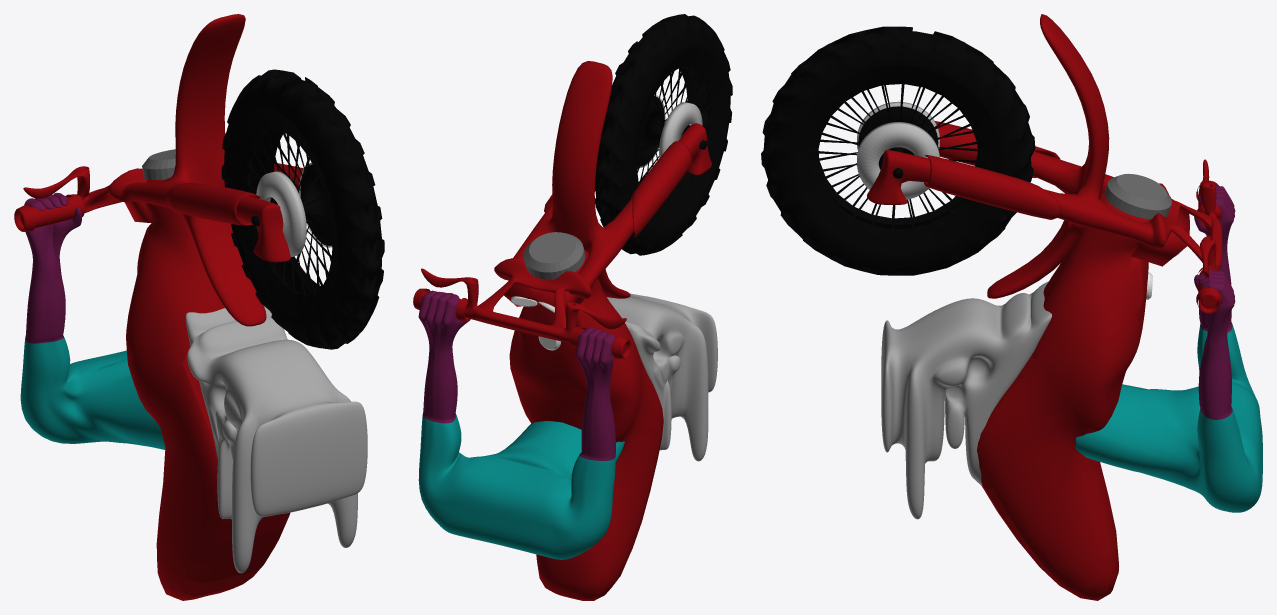
The model's file is Moto.fbx.
3 views of the same model, side by side, from view 1: azimuth 30°, elevation 25°; view 2: azimuth 150°, elevation 25°; view 3: azimuth 270°, elevation 25° (orthographic). The views are drawn at different scales.
Parts seen in each view (by area): view 1: Icosphere, Torus.001, Cube.003, Cube.001, Cube.000, Torus, Torus.002, Cube.005; view 2: Cube.000, Cube.001, Cube.003, Torus.001, Icosphere, Cube.005, Torus, Torus.002, Cube.004; view 3: Torus.001, Cube.003, Cube.001, Cube.000, Icosphere, Torus, Cube.005, Torus.002, Cube.004.
Part boxes in pixels (x1=…): Icosphere: x1=185, y1=306, x2=367, y2=573; Torus.001: x1=221, y1=69, x2=384, y2=349; Cube.003: x1=126, y1=179, x2=290, y2=600; Cube.001: x1=14, y1=14, x2=303, y2=326; Cube.000: x1=20, y1=193, x2=165, y2=449; Torus: x1=256, y1=162, x2=331, y2=256; Torus.002: x1=251, y1=164, x2=332, y2=245; Cube.005: x1=142, y1=149, x2=175, y2=179; Cube.000: x1=418, y1=290, x2=624, y2=559; Cube.001: x1=413, y1=61, x2=711, y2=359; Cube.003: x1=509, y1=249, x2=663, y2=600; Torus.001: x1=595, y1=14, x2=732, y2=255; Icosphere: x1=607, y1=293, x2=717, y2=461; Cube.005: x1=523, y1=232, x2=584, y2=279; Torus: x1=637, y1=95, x2=702, y2=167; Torus.002: x1=637, y1=96, x2=706, y2=165; Cube.004: x1=504, y1=277, x2=583, y2=315; Torus.001: x1=761, y1=26, x2=1035, y2=275; Cube.003: x1=977, y1=192, x2=1150, y2=600; Cube.001: x1=867, y1=14, x2=1222, y2=313; Cube.000: x1=1075, y1=186, x2=1262, y2=512; Icosphere: x1=881, y1=281, x2=1051, y2=519; Torus: x1=857, y1=101, x2=939, y2=199; Cube.005: x1=1104, y1=173, x2=1171, y2=219; Torus.002: x1=858, y1=106, x2=938, y2=178; Cube.004: x1=1131, y1=209, x2=1189, y2=266.
Size of the model in its own units: 1.92 by 4.53 by 3.6.
